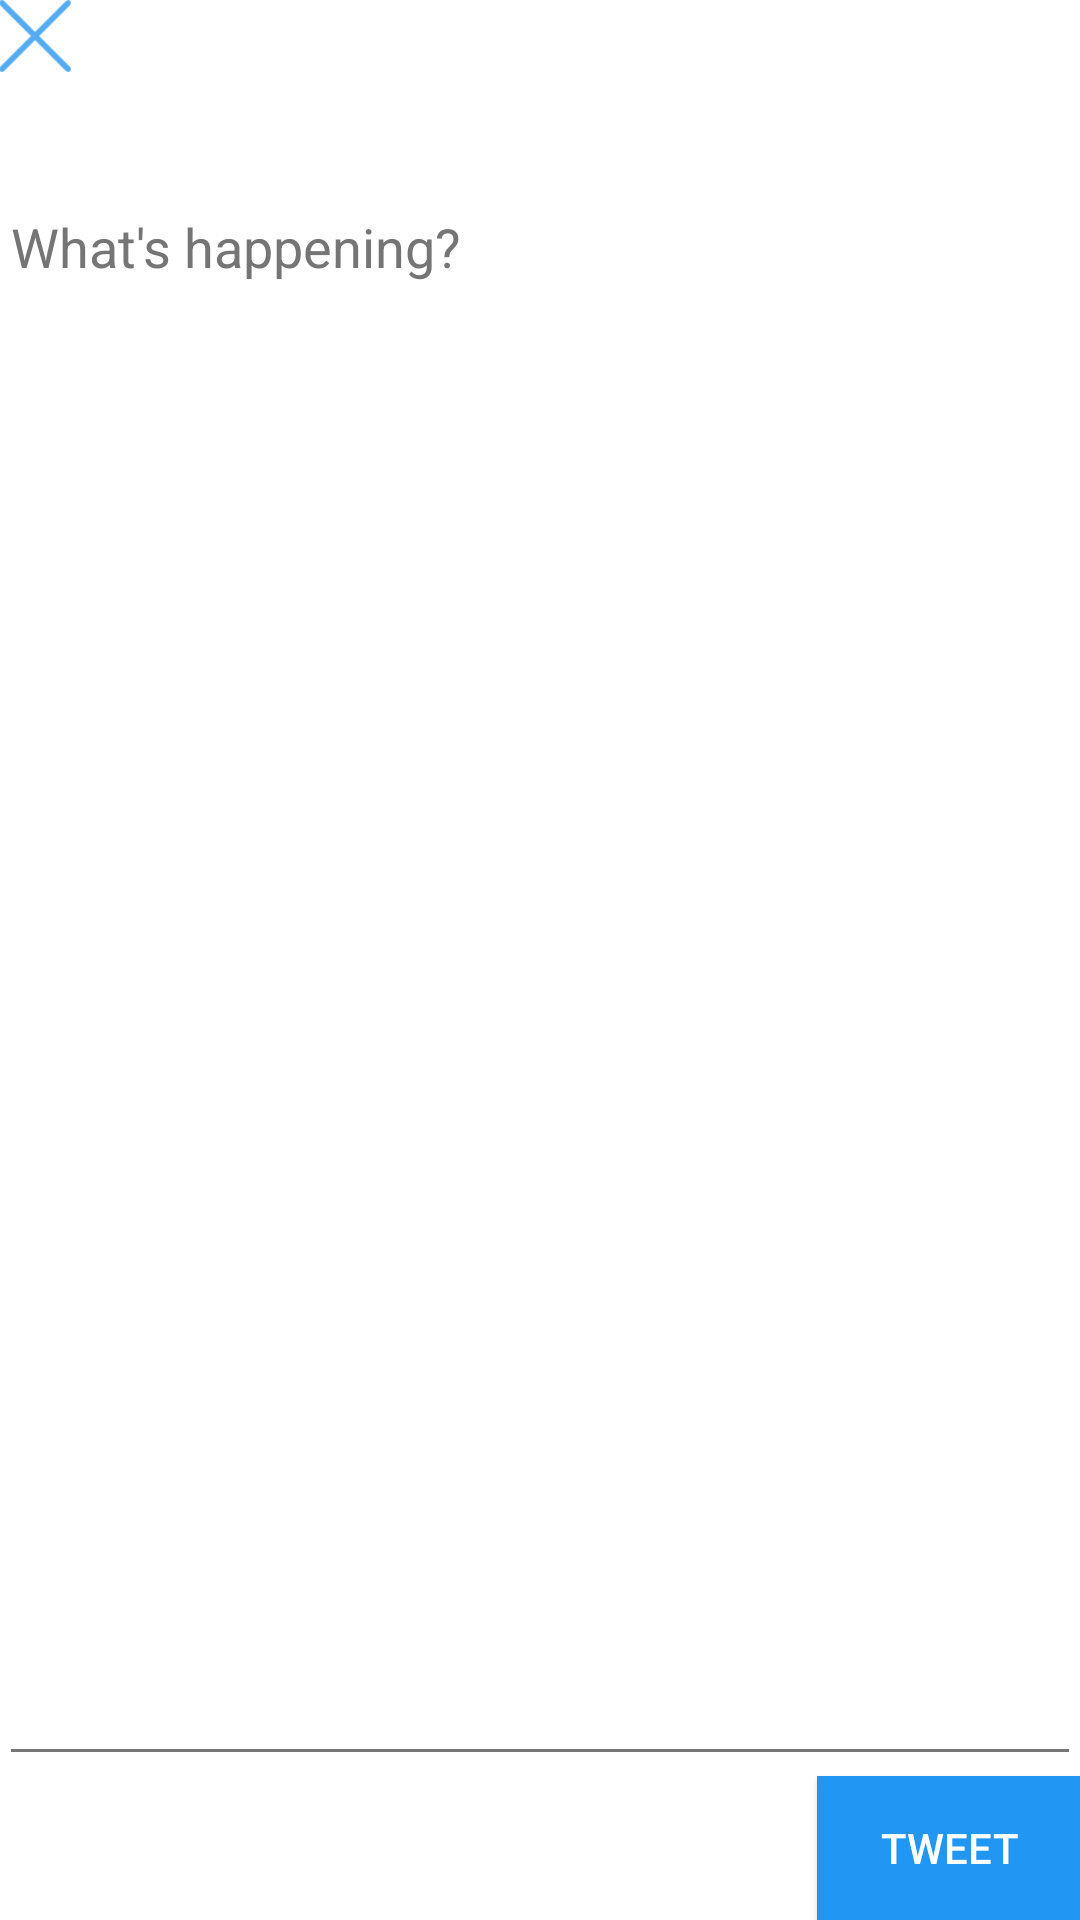

Icons on this 1080*1920 Android screen, each with its box as (left=x1, top=y1, right=x2, bottom=y2):
close: (left=0, top=0, right=71, bottom=72)
